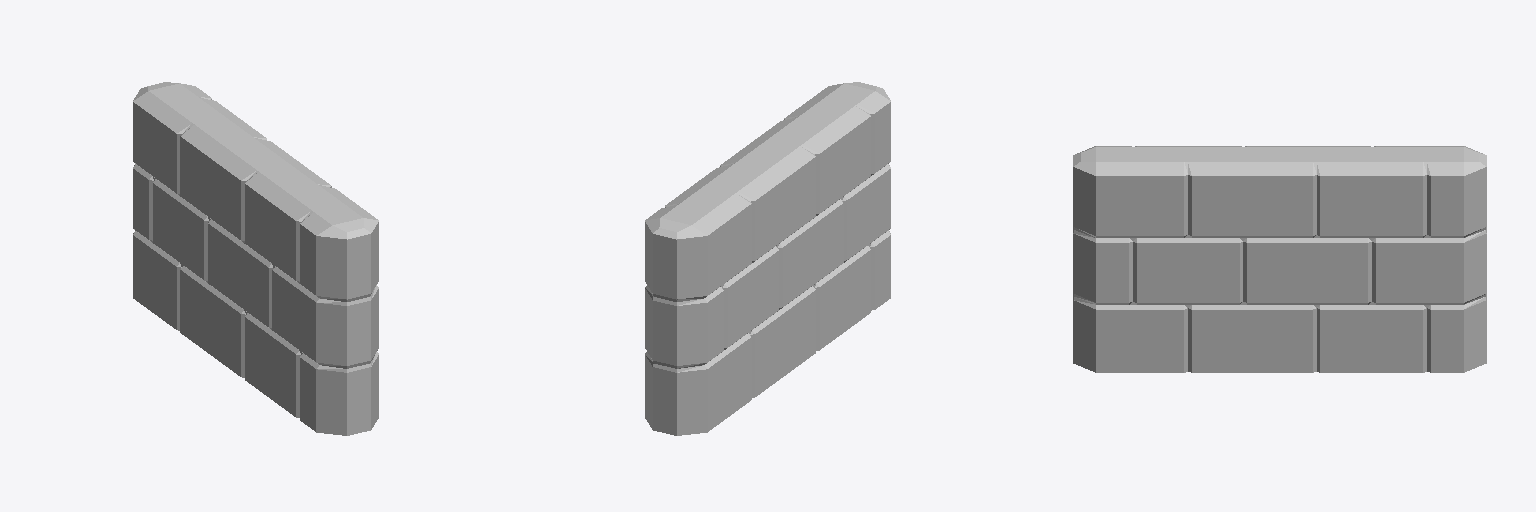
File: stoneWall.obj
The picture shows the model from 3 angles: view 1: azimuth 30°, elevation 25°; view 2: azimuth 150°, elevation 25°; view 3: azimuth 270°, elevation 25°; orthographic projection.
Parts seen in each view (by area): view 1: Grid; view 2: Grid; view 3: Grid.
Part boxes in pixels (x1,y1,x2,y2): Grid: (133, 82, 378, 435); Grid: (645, 82, 890, 435); Grid: (1073, 146, 1486, 372).
Bounding box in the file's own units: 1.97 × 6.1 × 11.24.